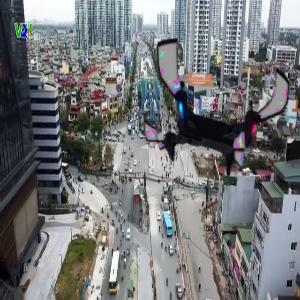drone: (141, 31, 296, 186)
